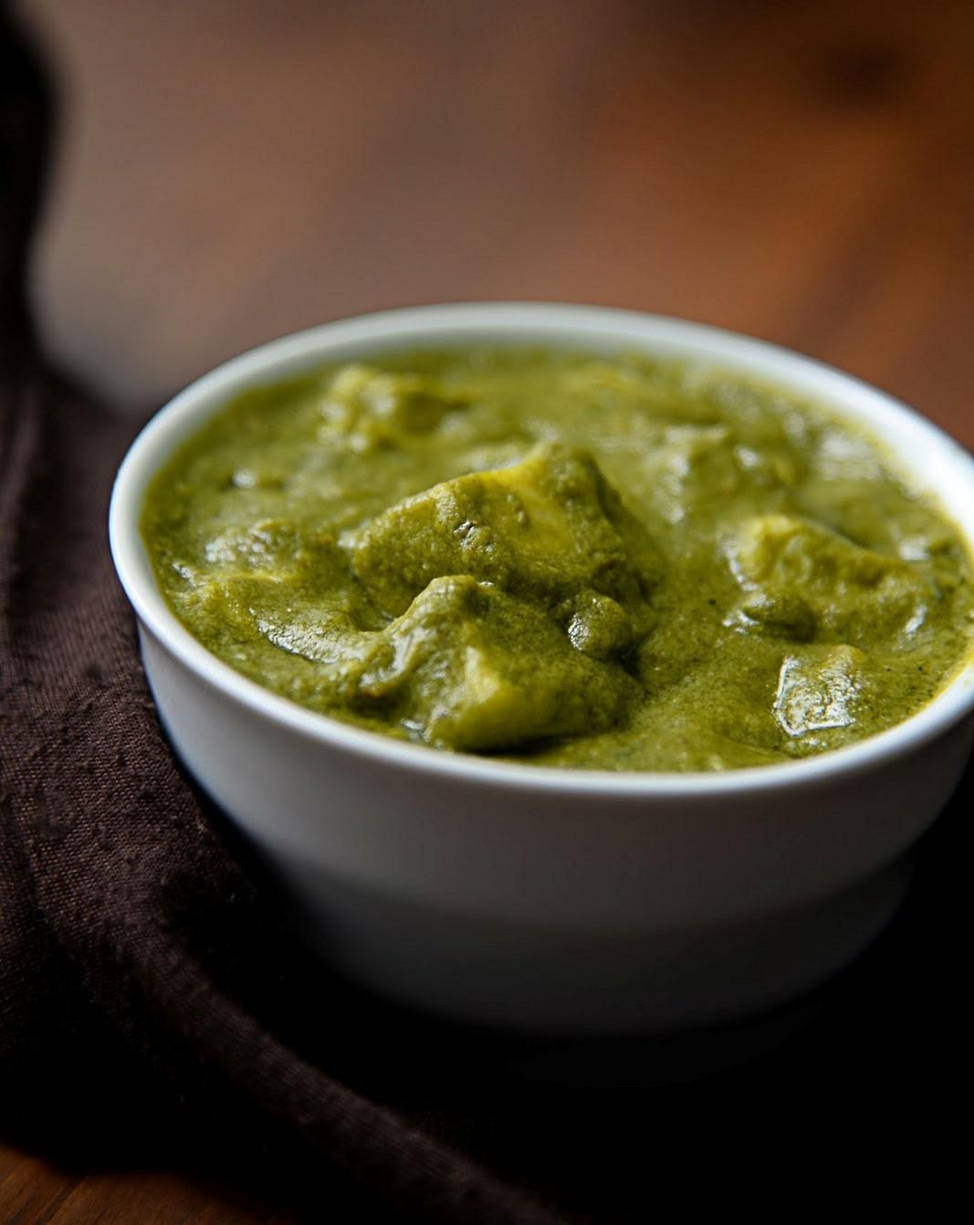PalakPaneer: (145, 328, 974, 769)
